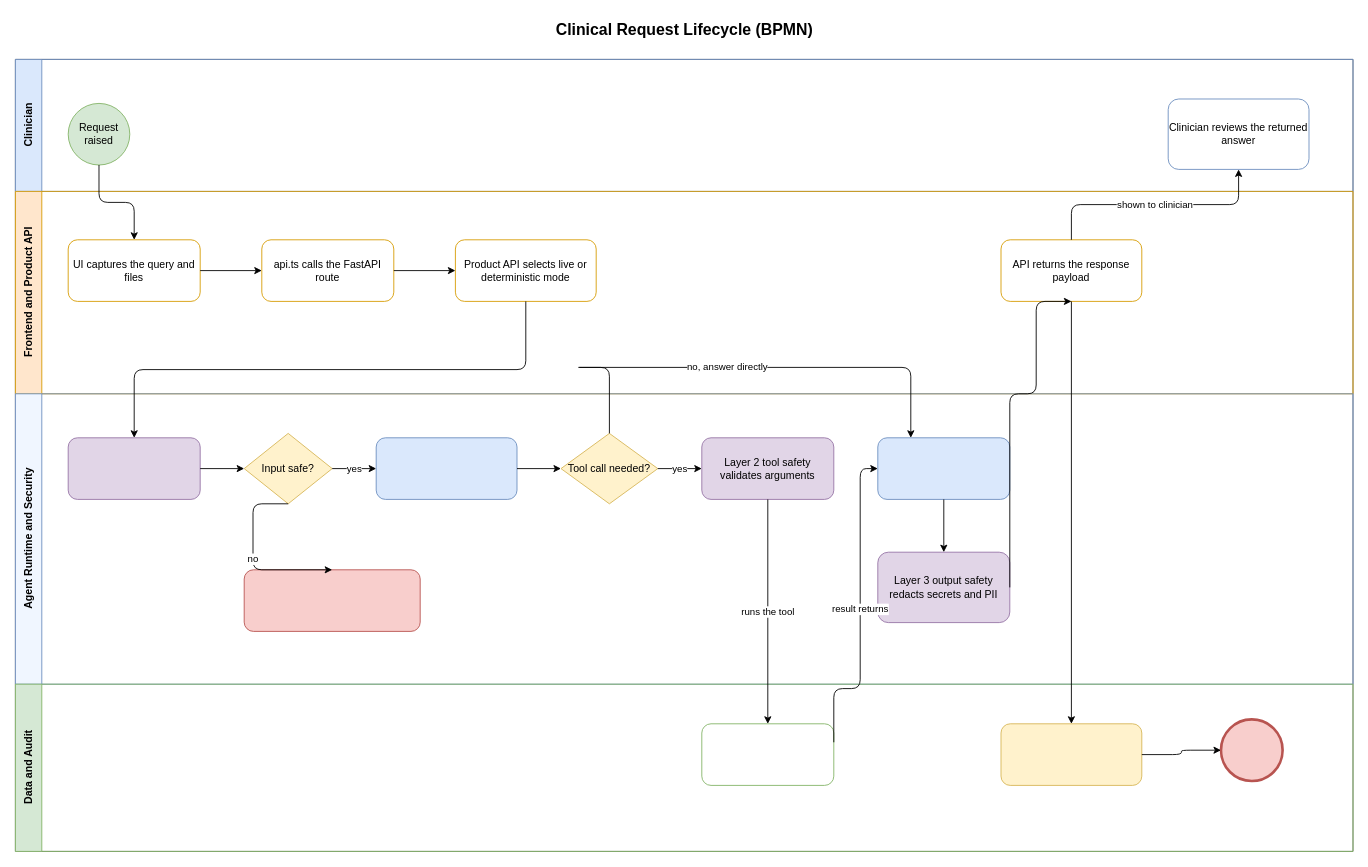
Some shapes in this 1368 by 867 pixel diagram are drawn without their labels. The centre of each missing label's shape, as x and y in pixels:
Answer delivered: point 1251,750
Audit trail records the interaction: point 1071,754
Blocked and logged, safe refusal returned: point 331,600
Layer 1 input safety scans the request: point 133,468
Model drafts the answer: point 943,468
Orchestrator routes to a clinical pipeline: point 446,468
Tool executes against the database: point 767,754
